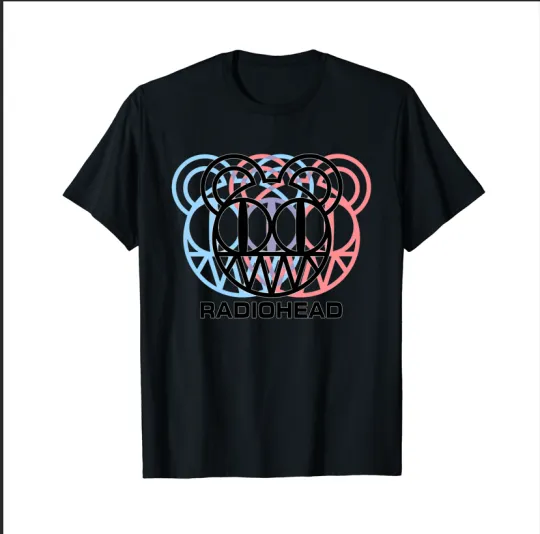design: (169, 150, 373, 322)
